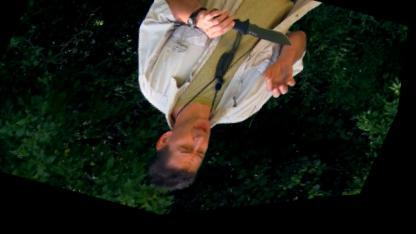knife: (196, 3, 304, 72)
